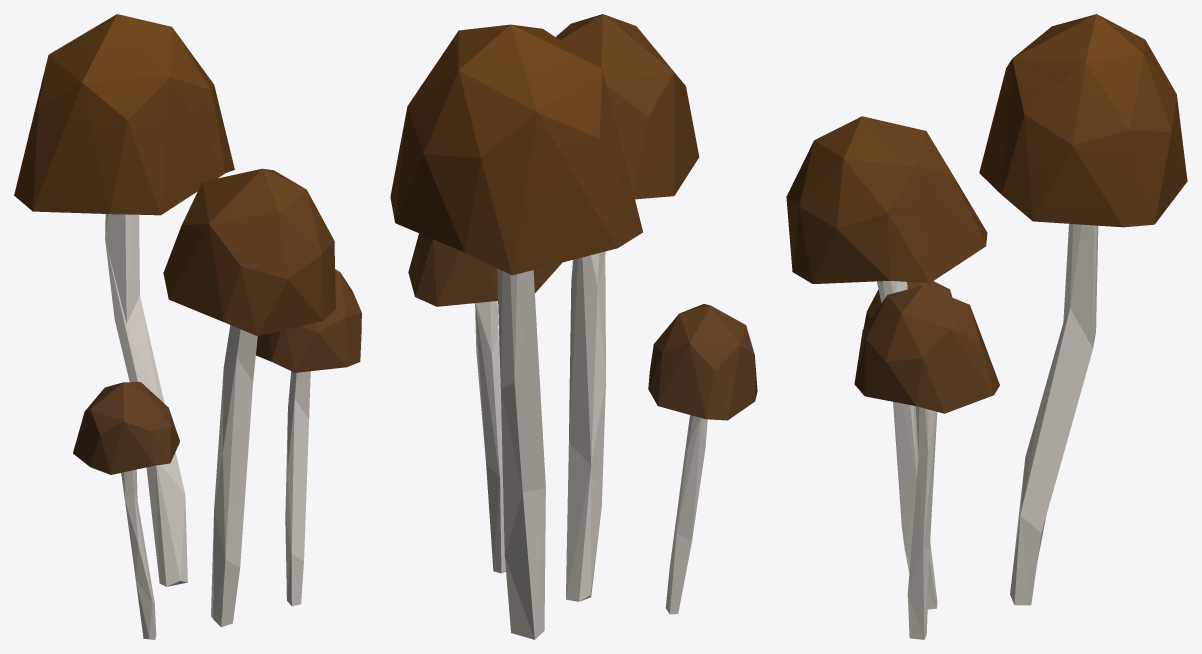
File: Mushroom_05.fbx
3 views of the same model, side by side, from view 1: azimuth 30°, elevation 25°; view 2: azimuth 150°, elevation 25°; view 3: azimuth 270°, elevation 25° (orthographic). The views are drawn at different scales.
Visible parts, largest first — view 1: Mushroom_05; view 2: Mushroom_05; view 3: Mushroom_05.
Boxes of the visible parts, left/top/right/bottom form: Mushroom_05: left=14, top=14, right=361, bottom=639; Mushroom_05: left=390, top=14, right=757, bottom=639; Mushroom_05: left=786, top=14, right=1187, bottom=639.
Bounding box in the file's own units: 14.41 × 27.58 × 17.21.
